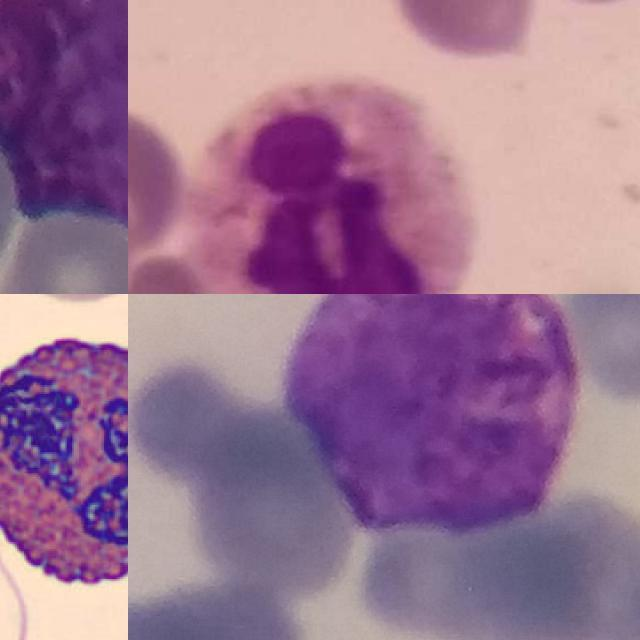Basophil: (286, 294, 578, 534), (0, 0, 128, 237)
Eosinophil: (0, 312, 128, 614)
Neutrophil: (182, 73, 474, 294)
